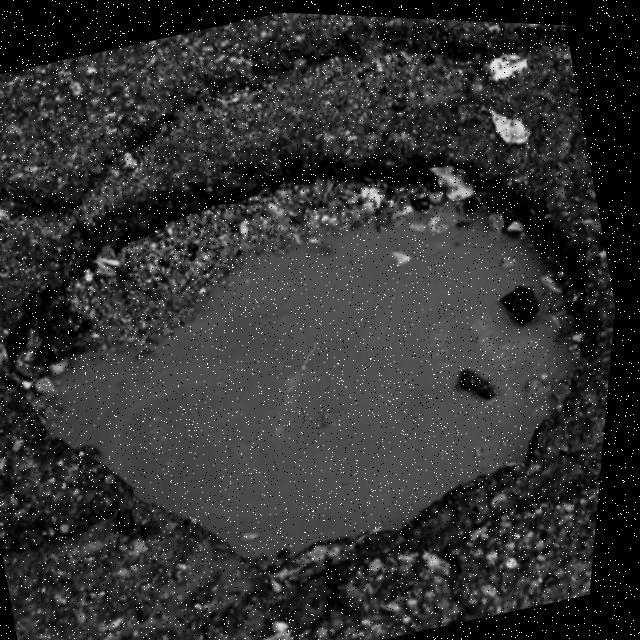pothole: (0, 60, 636, 640)
